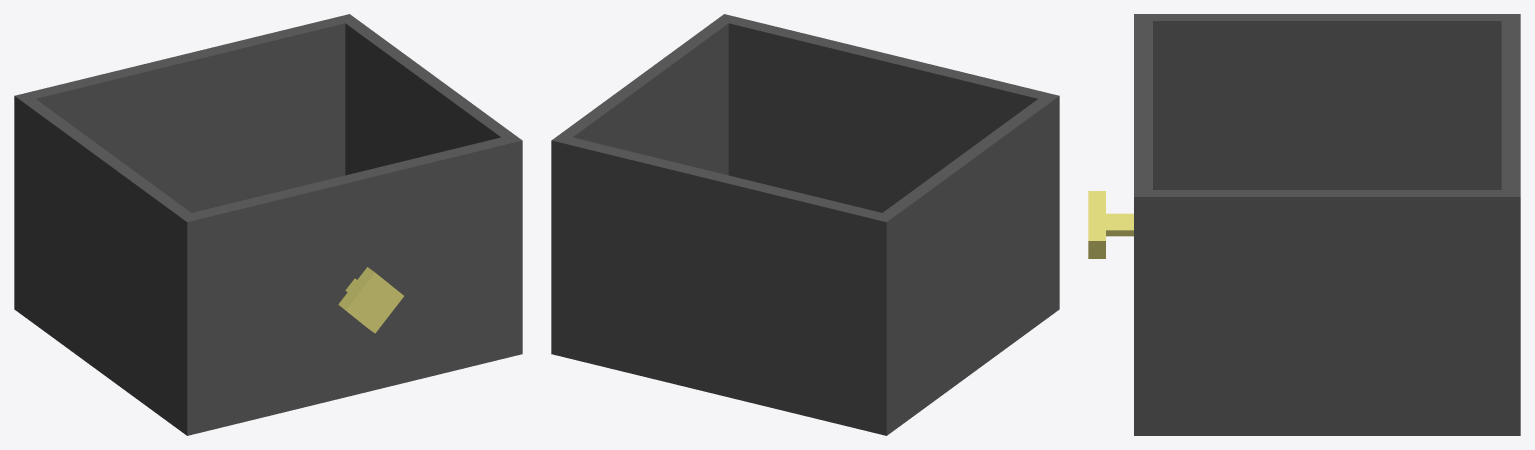
File: Itr_Desk_Drawer_Inside2_04.FBX
The picture shows the model from 3 angles, left to right: view 1: azimuth 30°, elevation 25°; view 2: azimuth 150°, elevation 25°; view 3: azimuth 270°, elevation 25°; orthographic projection. The views are drawn at different scales.
Visible parts, largest first — view 1: Itr_Desk_Drawer_Inside2_04; view 2: Itr_Desk_Drawer_Inside2_04; view 3: Itr_Desk_Drawer_Inside2_04.
Boxes of the visible parts, x1,y1,x2,y2 form: Itr_Desk_Drawer_Inside2_04: (14,14,522,435); Itr_Desk_Drawer_Inside2_04: (551,14,1059,435); Itr_Desk_Drawer_Inside2_04: (1088,14,1520,435).
Size of the model in its own units: 14.4 by 8.77 by 14.37.
